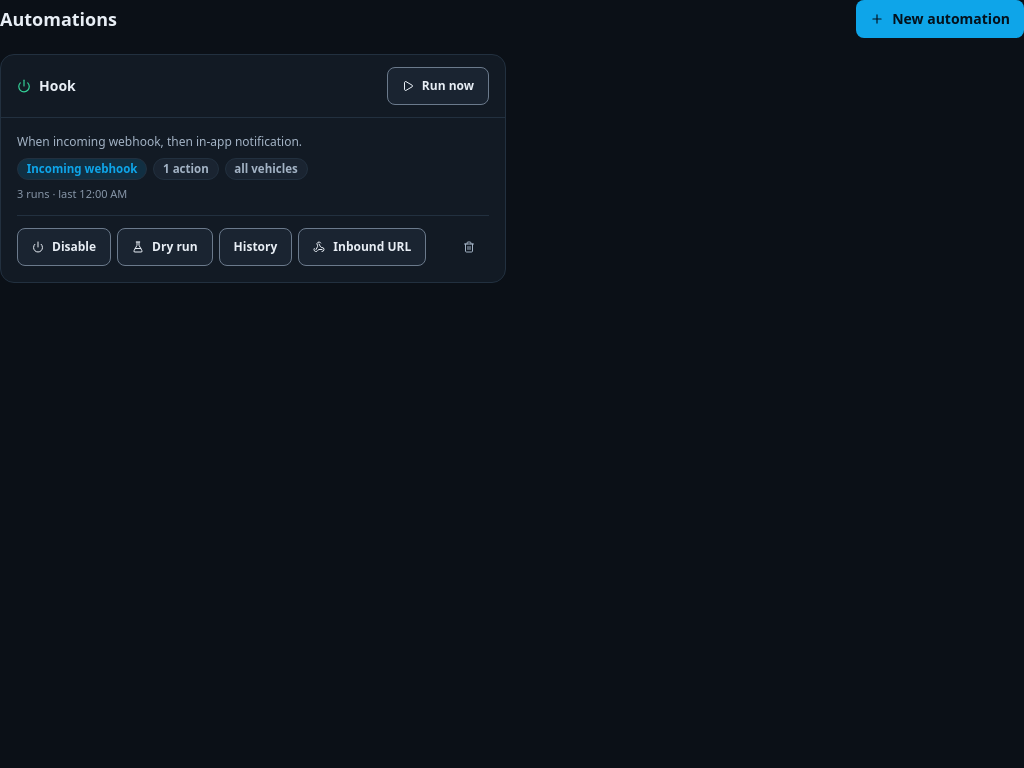
AutomationsPage › runs a dry run and renders the result details
Check: the text "Hook" is shown, box [17, 76, 76, 96]
Click the button "Dry run": x=165, y=247 [117, 228, 213, 266]
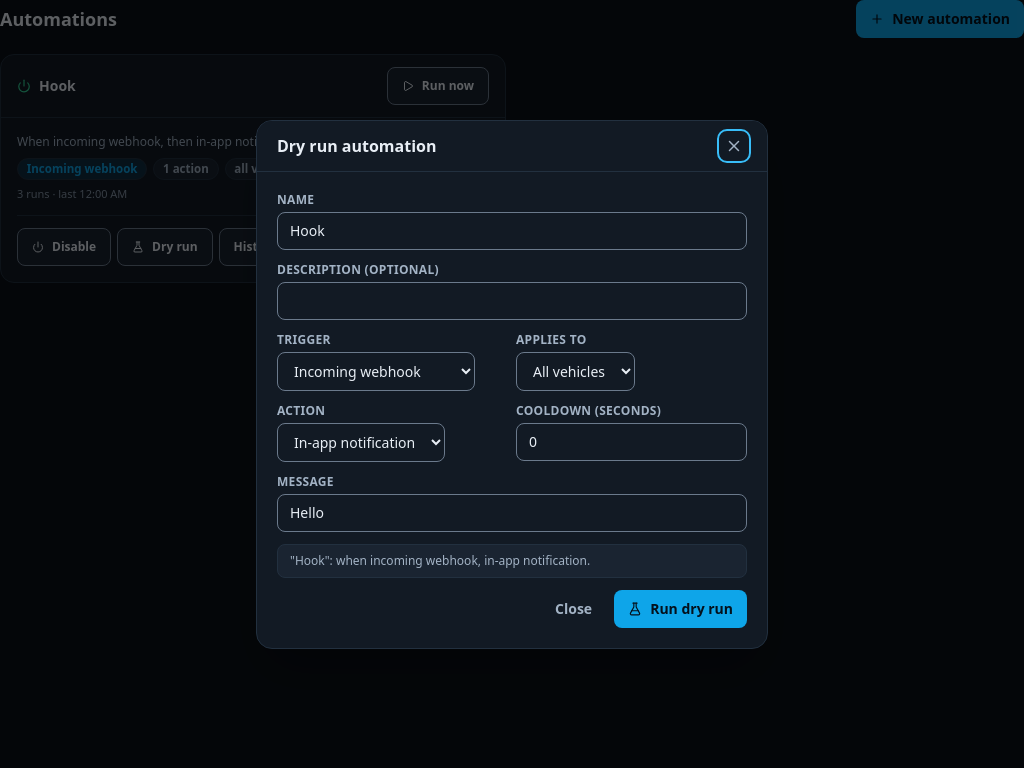
Check: the button "Run dry run" is shown
Click the button "Run dry run": x=681, y=608 [614, 590, 747, 628]
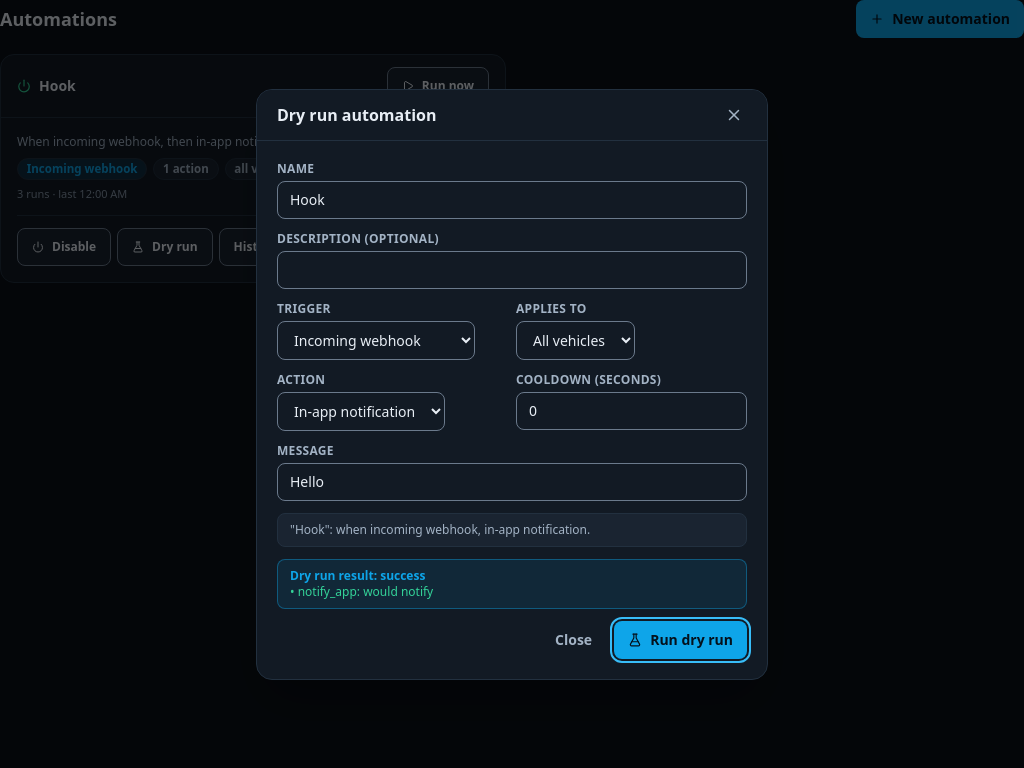
Check: the text "Dry run result: success" is shown, box [290, 566, 425, 584]
Check: the text "• notify_app: would notify" is shown, box [290, 582, 433, 600]
